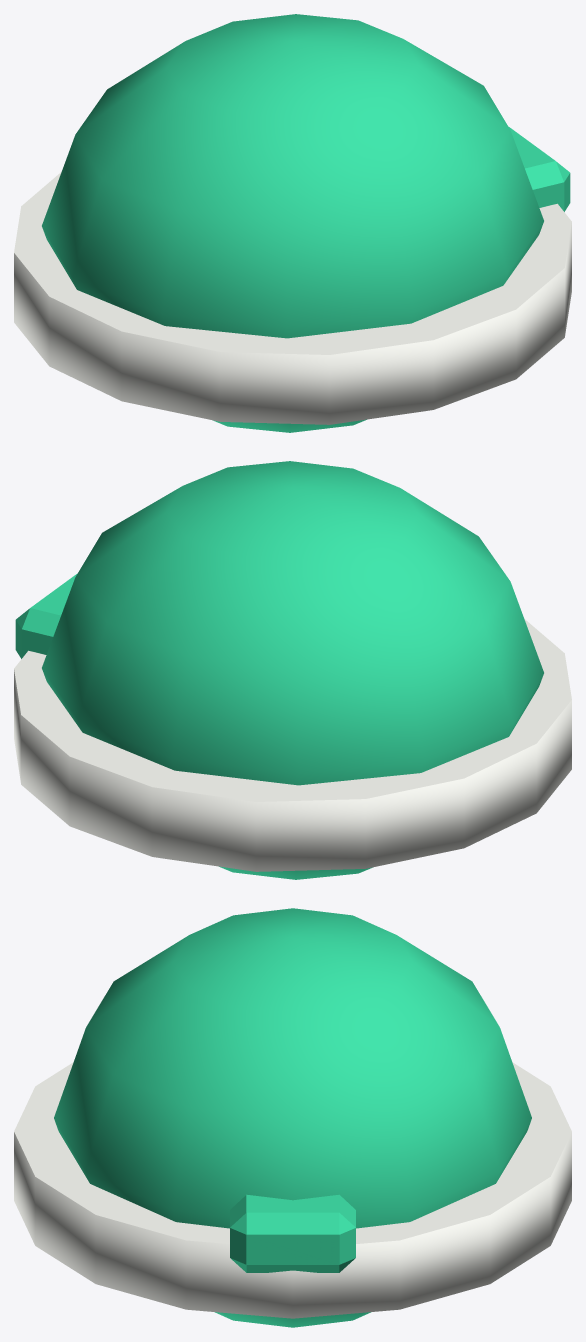
The model's file is shell_green.glb.
The picture shows the model from 3 angles, top to bottom: view 1: azimuth 30°, elevation 25°; view 2: azimuth 150°, elevation 25°; view 3: azimuth 270°, elevation 25°; orthographic projection.
Visible parts, largest first — view 1: Armored dome, Ivory bumper, Nose; view 2: Armored dome, Ivory bumper, Nose; view 3: Armored dome, Ivory bumper, Nose.
Part boxes in pixels (x1,y1,x2,y2): Armored dome: (42,14,543,432); Ivory bumper: (14,172,571,424); Nose: (509,127,570,211); Armored dome: (42,461,543,879); Ivory bumper: (14,619,571,871); Nose: (15,574,76,658); Armored dome: (54,908,531,1327); Ivory bumper: (14,1062,571,1318); Nose: (230,1194,355,1272).
Size of the model in its own units: 1.71 by 1.2 by 1.68.
